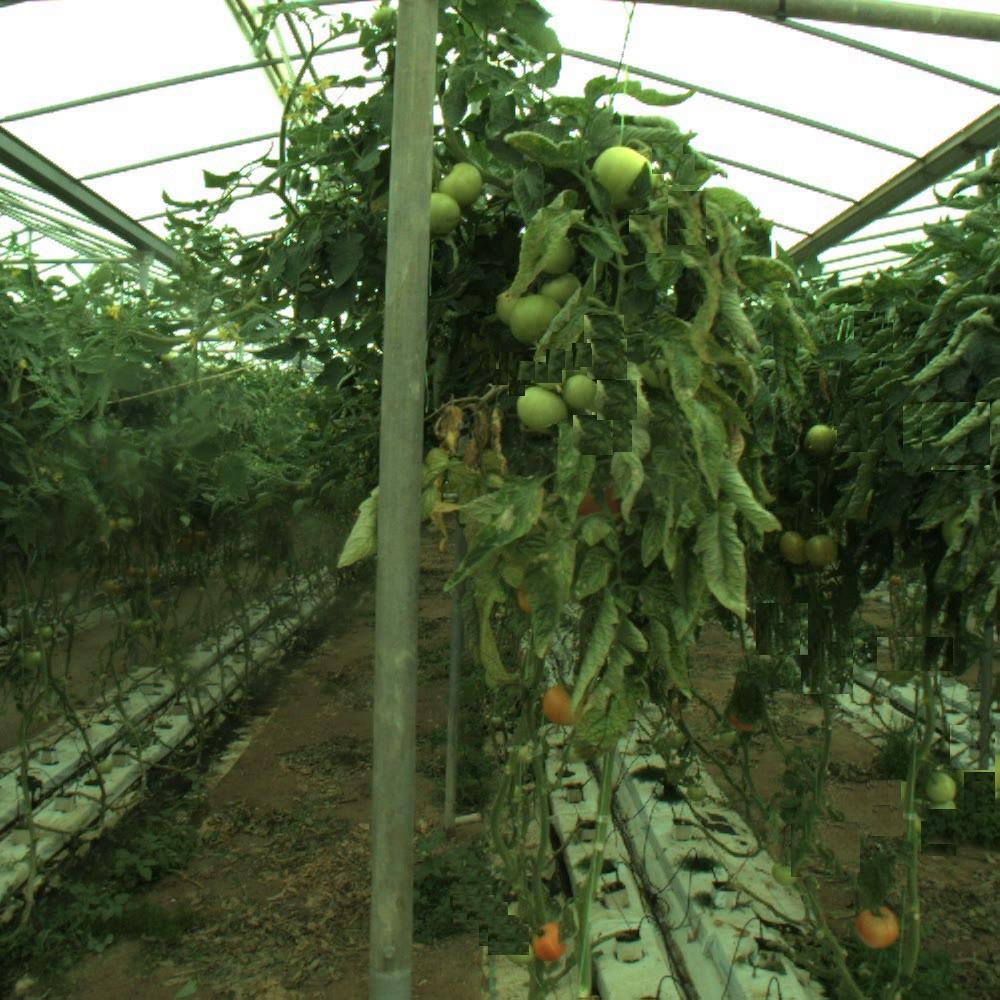fully-ripe: (532, 925, 566, 959)
semi-ripe: (853, 904, 899, 950), (542, 683, 586, 727)
unripe: (592, 145, 658, 211), (510, 292, 566, 348), (436, 160, 486, 210), (519, 385, 569, 435), (419, 193, 459, 233), (562, 375, 596, 409), (924, 772, 956, 804), (779, 529, 811, 561), (804, 535, 836, 567), (805, 426, 837, 458)
